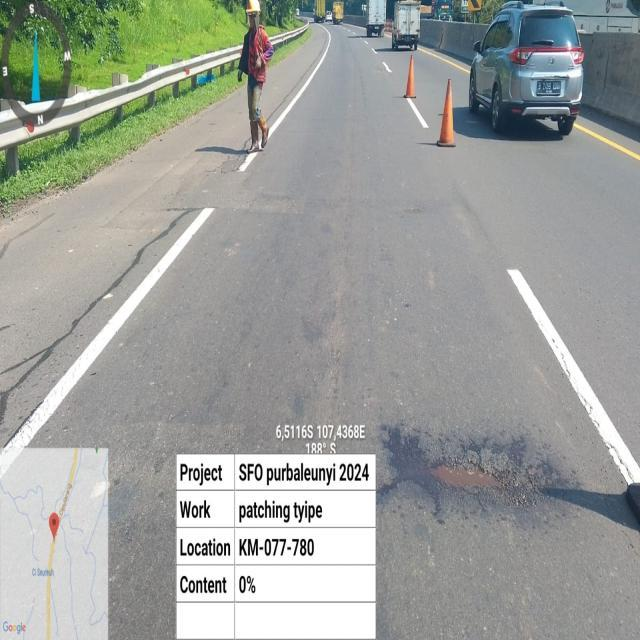Buraco: (421, 454, 509, 492)
